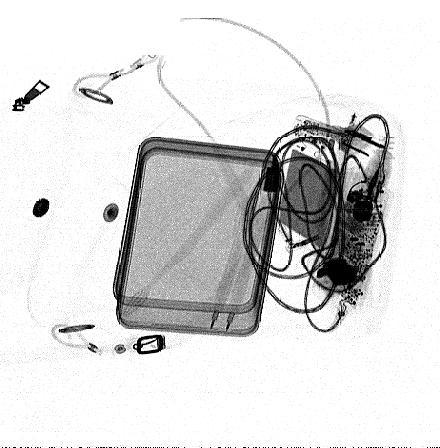Powerbank: (268, 113, 355, 254)
